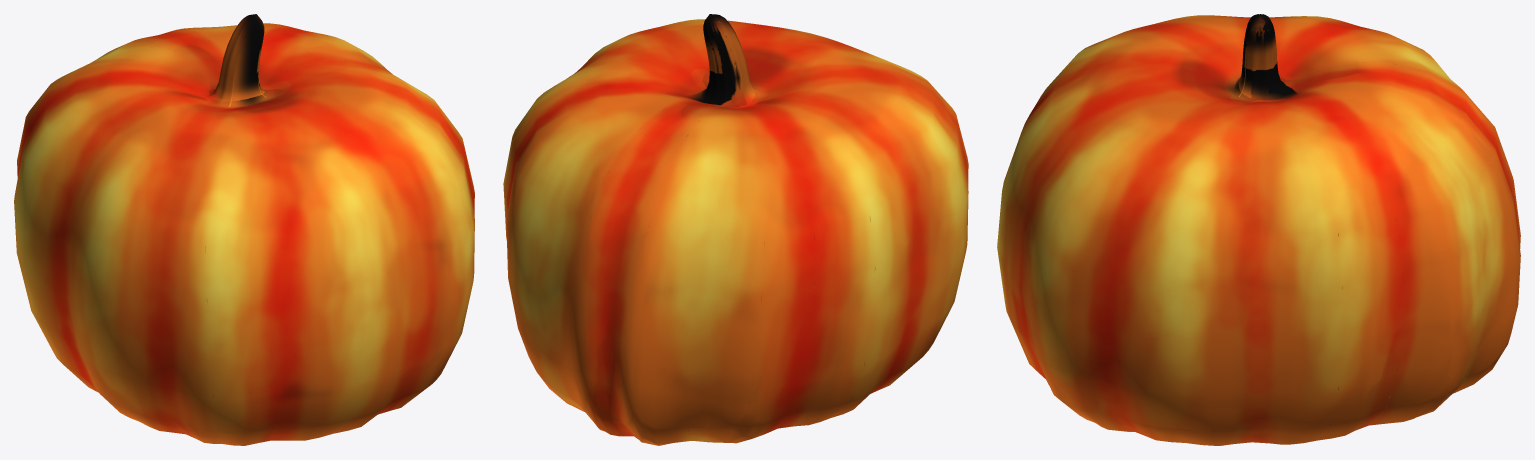
Rendered from pumpkin1.fbx.
3 renders of one model, left to right at view 1: azimuth 30°, elevation 25°; view 2: azimuth 150°, elevation 25°; view 3: azimuth 270°, elevation 25°, orthographic. The views are drawn at different scales.
Parts seen in each view (by area): view 1: Cube; view 2: Cube; view 3: Cube.
Boxes of the visible parts, x1,y1,x2,y2 form: Cube: (14,14,474,445); Cube: (503,14,968,445); Cube: (997,14,1520,445).
Size of the model in its own units: 171 by 158 by 195.
